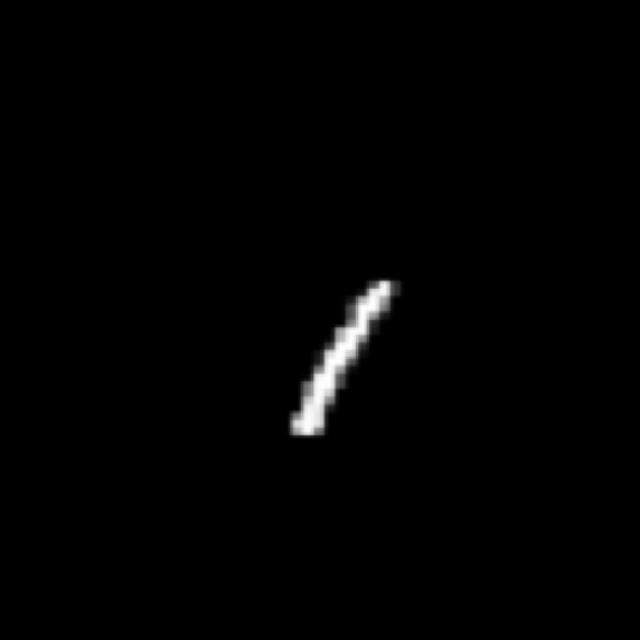one -1-: (267, 264, 419, 446)
